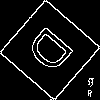D: (25, 24, 82, 81)
